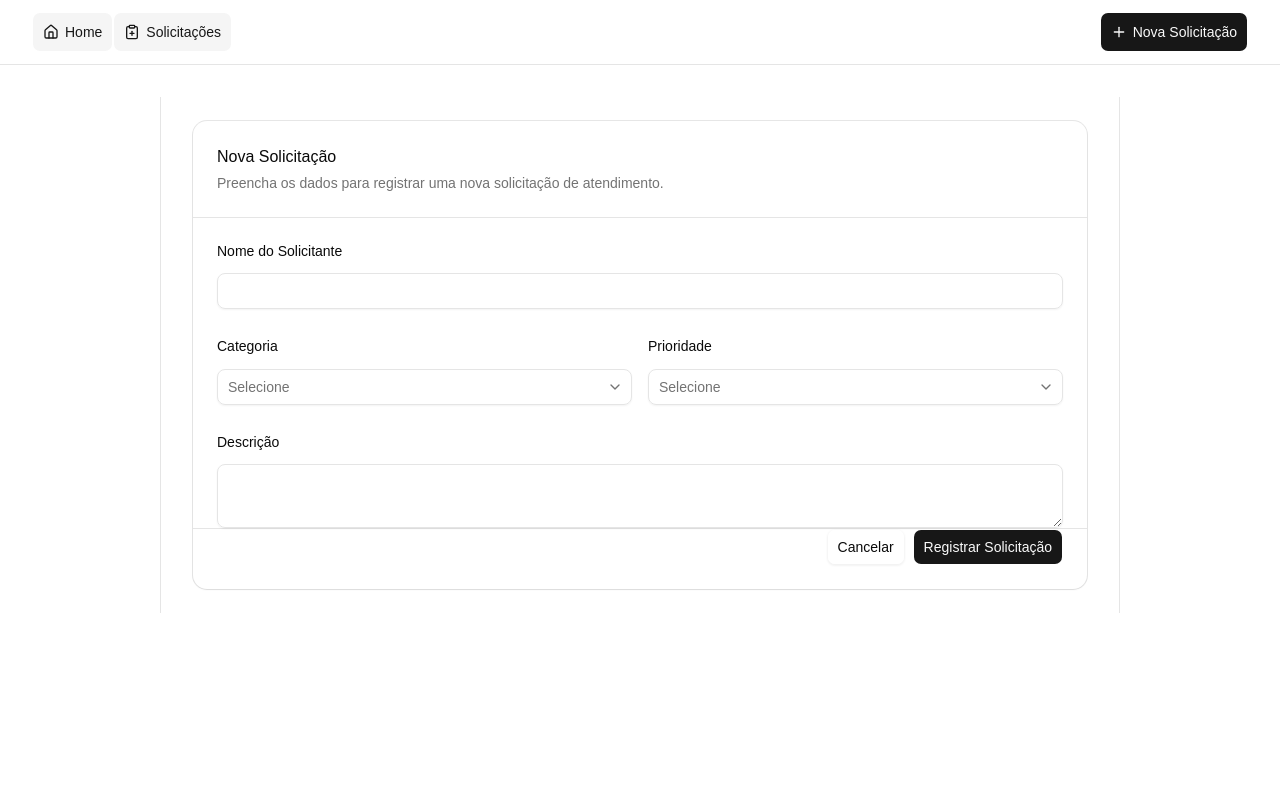
Test: Register a solicitation › shows client-side validation errors on an empty submission
This screenshot has width=1280, height=800.
Click the button "Registrar Solicitação" at (988, 547), box [913, 529, 1063, 565]
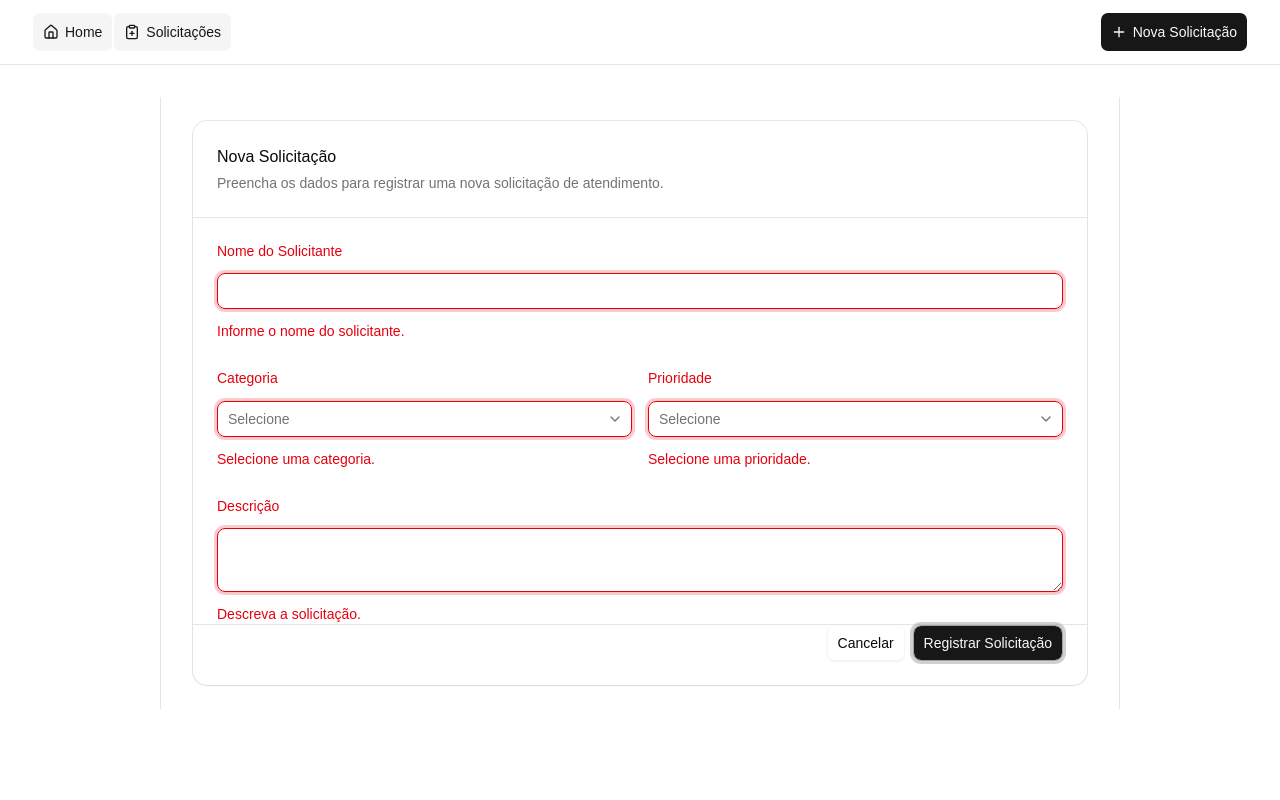
Expected: the text "Informe o nome do solicitante." is shown, [217, 323, 404, 339]
Expected: the text "Selecione uma categoria." is shown, [217, 450, 375, 466]
Expected: the text "Selecione uma prioridade." is shown, [648, 450, 811, 466]
